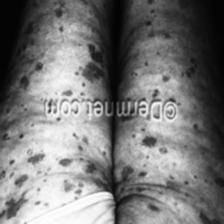Non-Cancerous Skin Condition: (84, 40, 105, 84), (27, 148, 46, 166), (184, 56, 198, 80), (141, 134, 159, 148), (86, 164, 94, 176), (164, 75, 169, 84)
